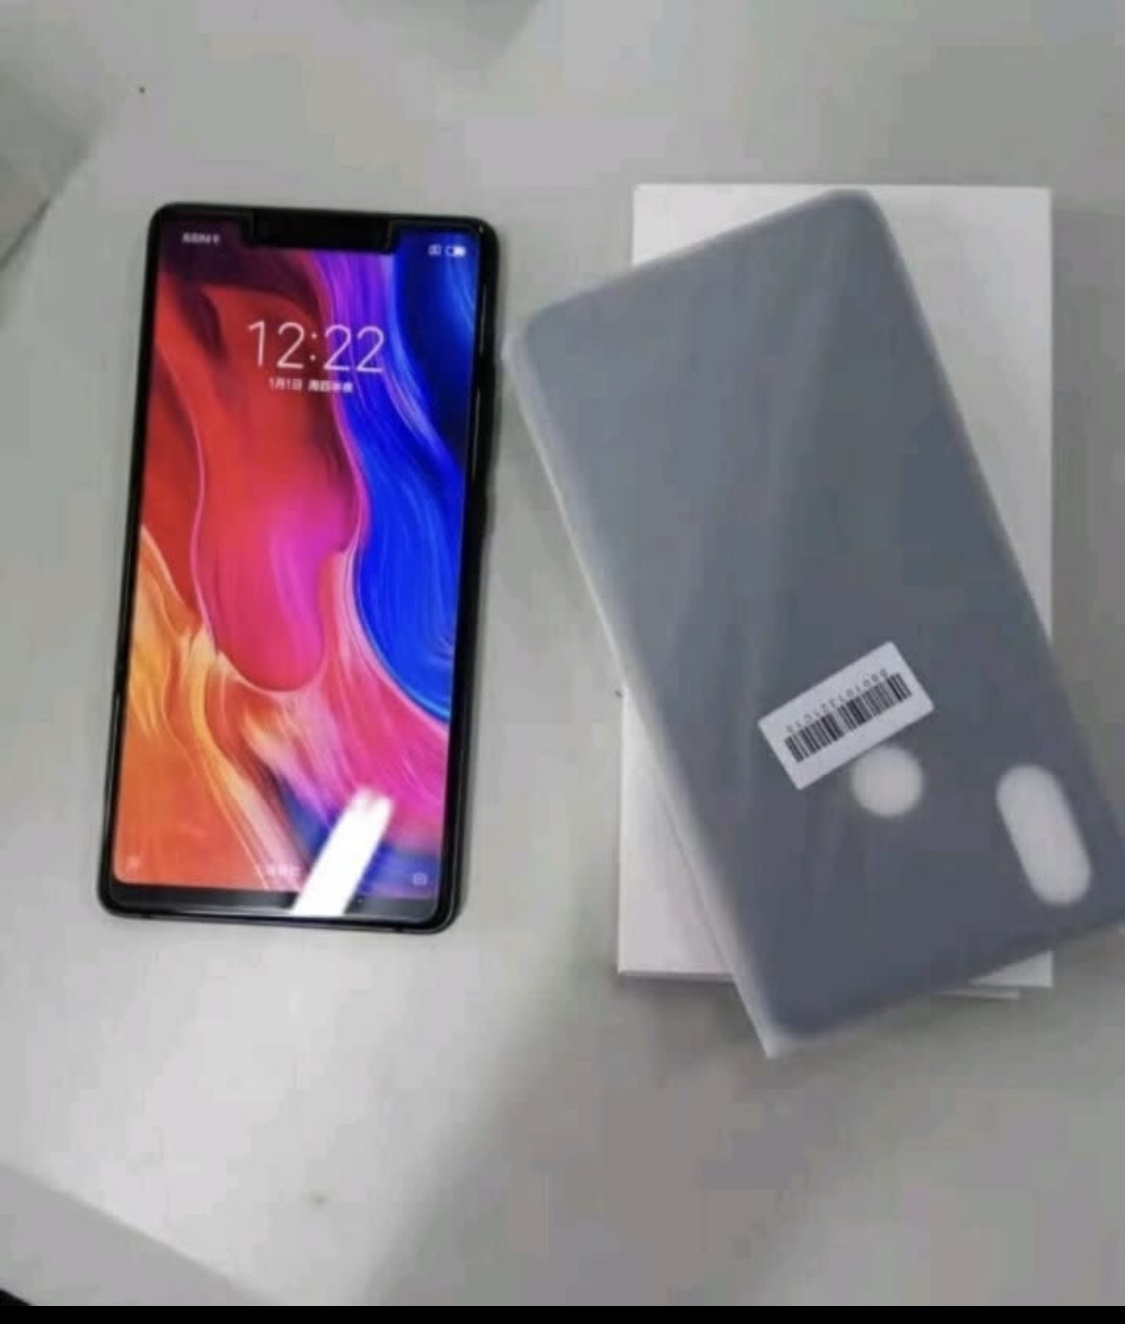mobil: (94, 186, 506, 940)
